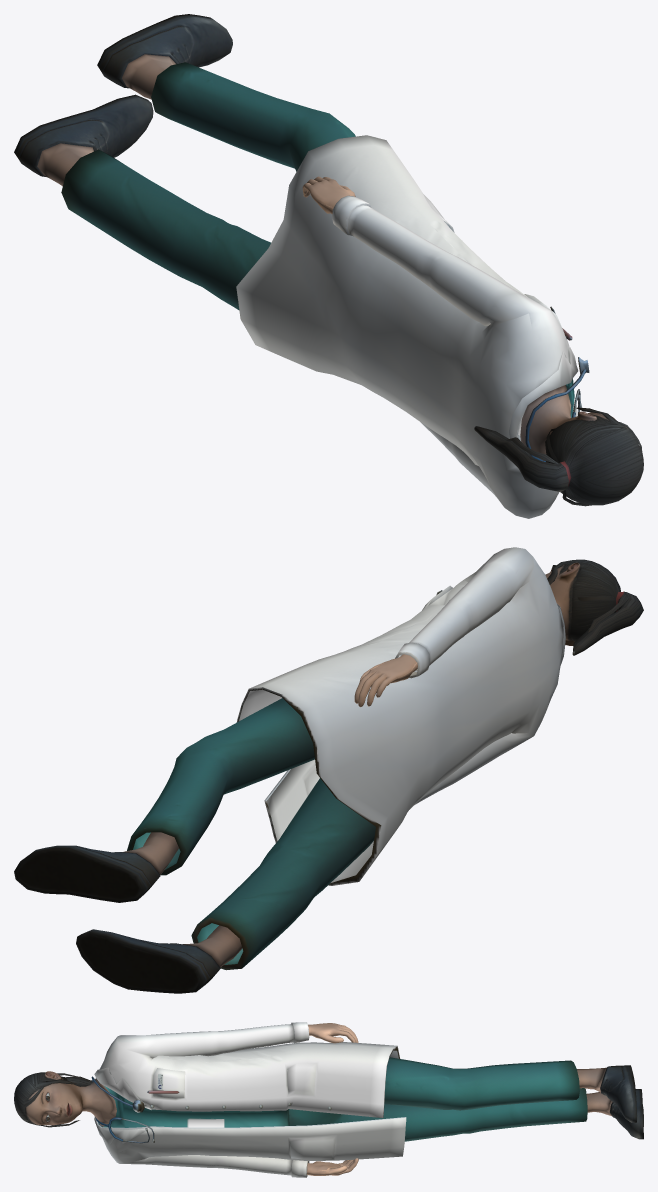
File: walk.obj
3 renders of one model, top to bottom at view 1: azimuth 30°, elevation 25°; view 2: azimuth 150°, elevation 25°; view 3: azimuth 270°, elevation 25°, orthographic. The views are drawn at different scales.
Size of the model in its own units: 0.4046 by 0.4055 by 1.72.
Materials: 1 (1 with a texture image).
